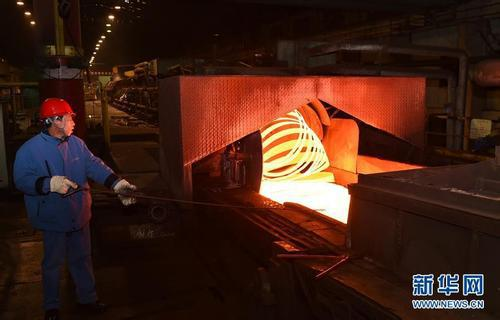helmet: (38, 95, 79, 138)
